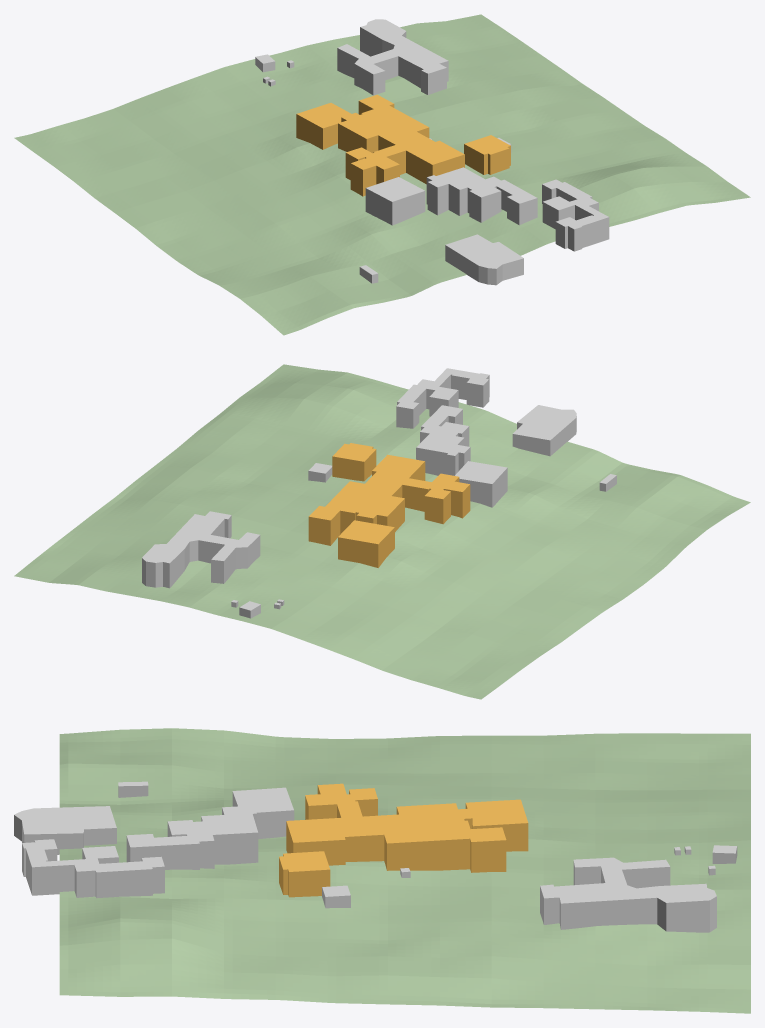
Rendered from mimarlik_ref.glb.
3 views of the same model, one above another, from view 1: azimuth 30°, elevation 25°; view 2: azimuth 150°, elevation 25°; view 3: azimuth 270°, elevation 25° (orthographic). The views are drawn at different scales.
Parts seen in each view (by area): view 1: ARAZI, KOMSU_BINALAR, HEDEF_1_relation_6296521, HEDEF_2_relation_6296521, HEDEF_0_way_431068199; view 2: ARAZI, KOMSU_BINALAR, HEDEF_1_relation_6296521, HEDEF_2_relation_6296521, HEDEF_0_way_431068199; view 3: ARAZI, KOMSU_BINALAR, HEDEF_1_relation_6296521, HEDEF_0_way_431068199, HEDEF_2_relation_6296521.
Boxes of the visible parts, x1,y1,x2,y2 form: ARAZI: (14, 14, 750, 335); KOMSU_BINALAR: (255, 19, 609, 285); HEDEF_1_relation_6296521: (338, 94, 464, 196); HEDEF_2_relation_6296521: (296, 103, 351, 149); HEDEF_0_way_431068199: (464, 135, 510, 174); ARAZI: (14, 364, 750, 699); KOMSU_BINALAR: (142, 368, 616, 618); HEDEF_1_relation_6296521: (308, 454, 470, 545); HEDEF_2_relation_6296521: (338, 520, 394, 567); HEDEF_0_way_431068199: (332, 443, 376, 481); ARAZI: (59, 728, 750, 1013); KOMSU_BINALAR: (14, 781, 737, 932); HEDEF_1_relation_6296521: (286, 783, 506, 872); HEDEF_0_way_431068199: (279, 851, 330, 897); HEDEF_2_relation_6296521: (465, 799, 528, 851).
Size of the model in its own units: 400 by 43.69 by 426.
